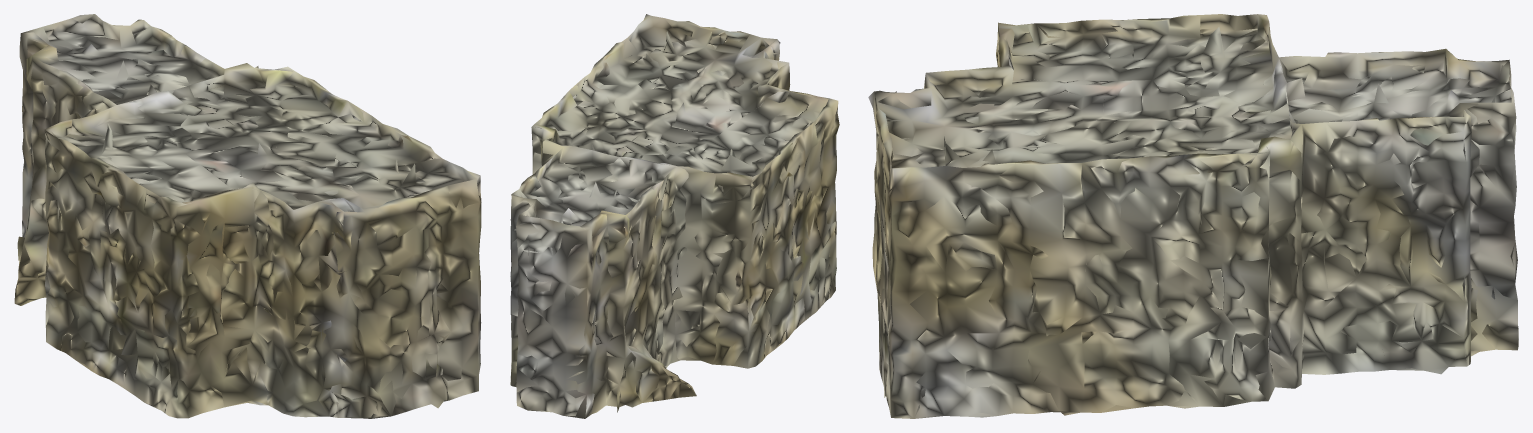
Rendered from alcatraz_prison.glb.
The picture shows the model from 3 angles, left to right: view 1: azimuth 30°, elevation 25°; view 2: azimuth 150°, elevation 25°; view 3: azimuth 270°, elevation 25°; orthographic projection. The views are drawn at different scales.
Visible parts, largest first — view 1: alcatraz_prison; view 2: alcatraz_prison; view 3: alcatraz_prison.
Part boxes in pixels (<box>): alcatraz_prison: <box>14,14,481,418</box>; alcatraz_prison: <box>510,14,839,418</box>; alcatraz_prison: <box>868,14,1518,418</box>.
Size of the model in its own units: 1.26 by 0.9835 by 2.18.
